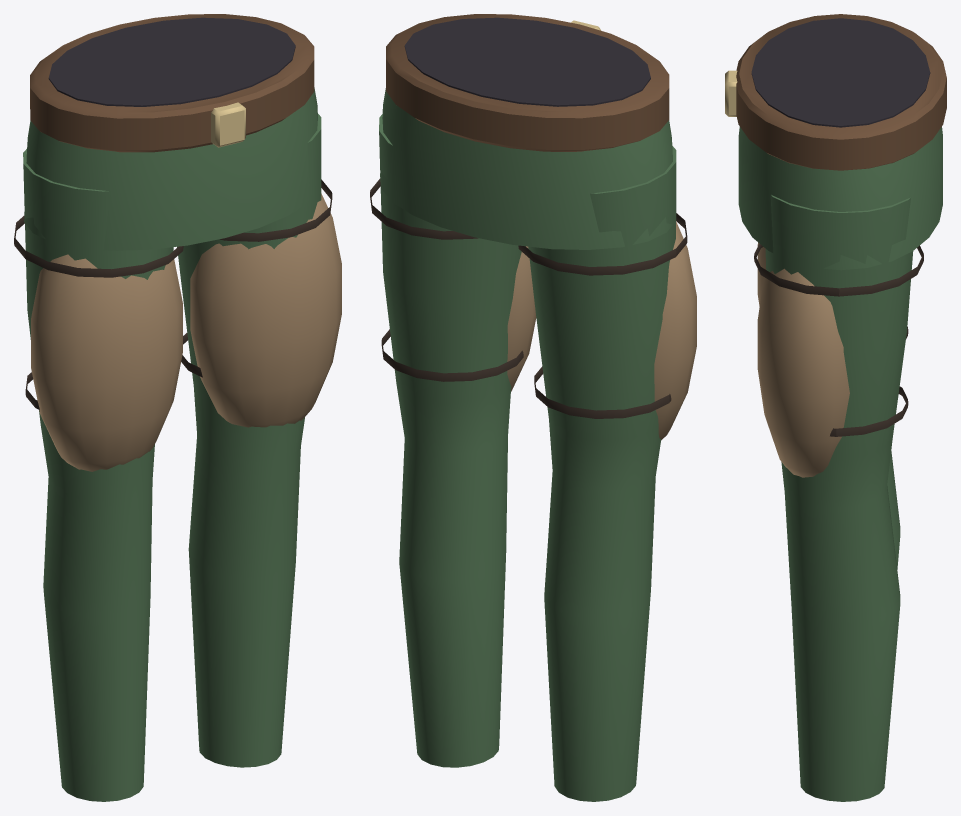
File: staghide_chaps.glb
3 views of the same model, side by side, from view 1: azimuth 30°, elevation 25°; view 2: azimuth 150°, elevation 25°; view 3: azimuth 270°, elevation 25° (orthographic). The views are drawn at different scales.
Visible parts, largest first — view 1: staghide_chaps; view 2: staghide_chaps; view 3: staghide_chaps.
Part boxes in pixels (bbox=[...]): staghide_chaps: bbox=[14, 14, 341, 801]; staghide_chaps: bbox=[370, 14, 696, 801]; staghide_chaps: bbox=[725, 14, 946, 801].
Size of the model in its own units: 0.3131 by 0.7066 by 0.2084.
